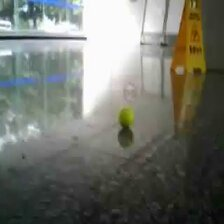tennis: (118, 107, 134, 125)
